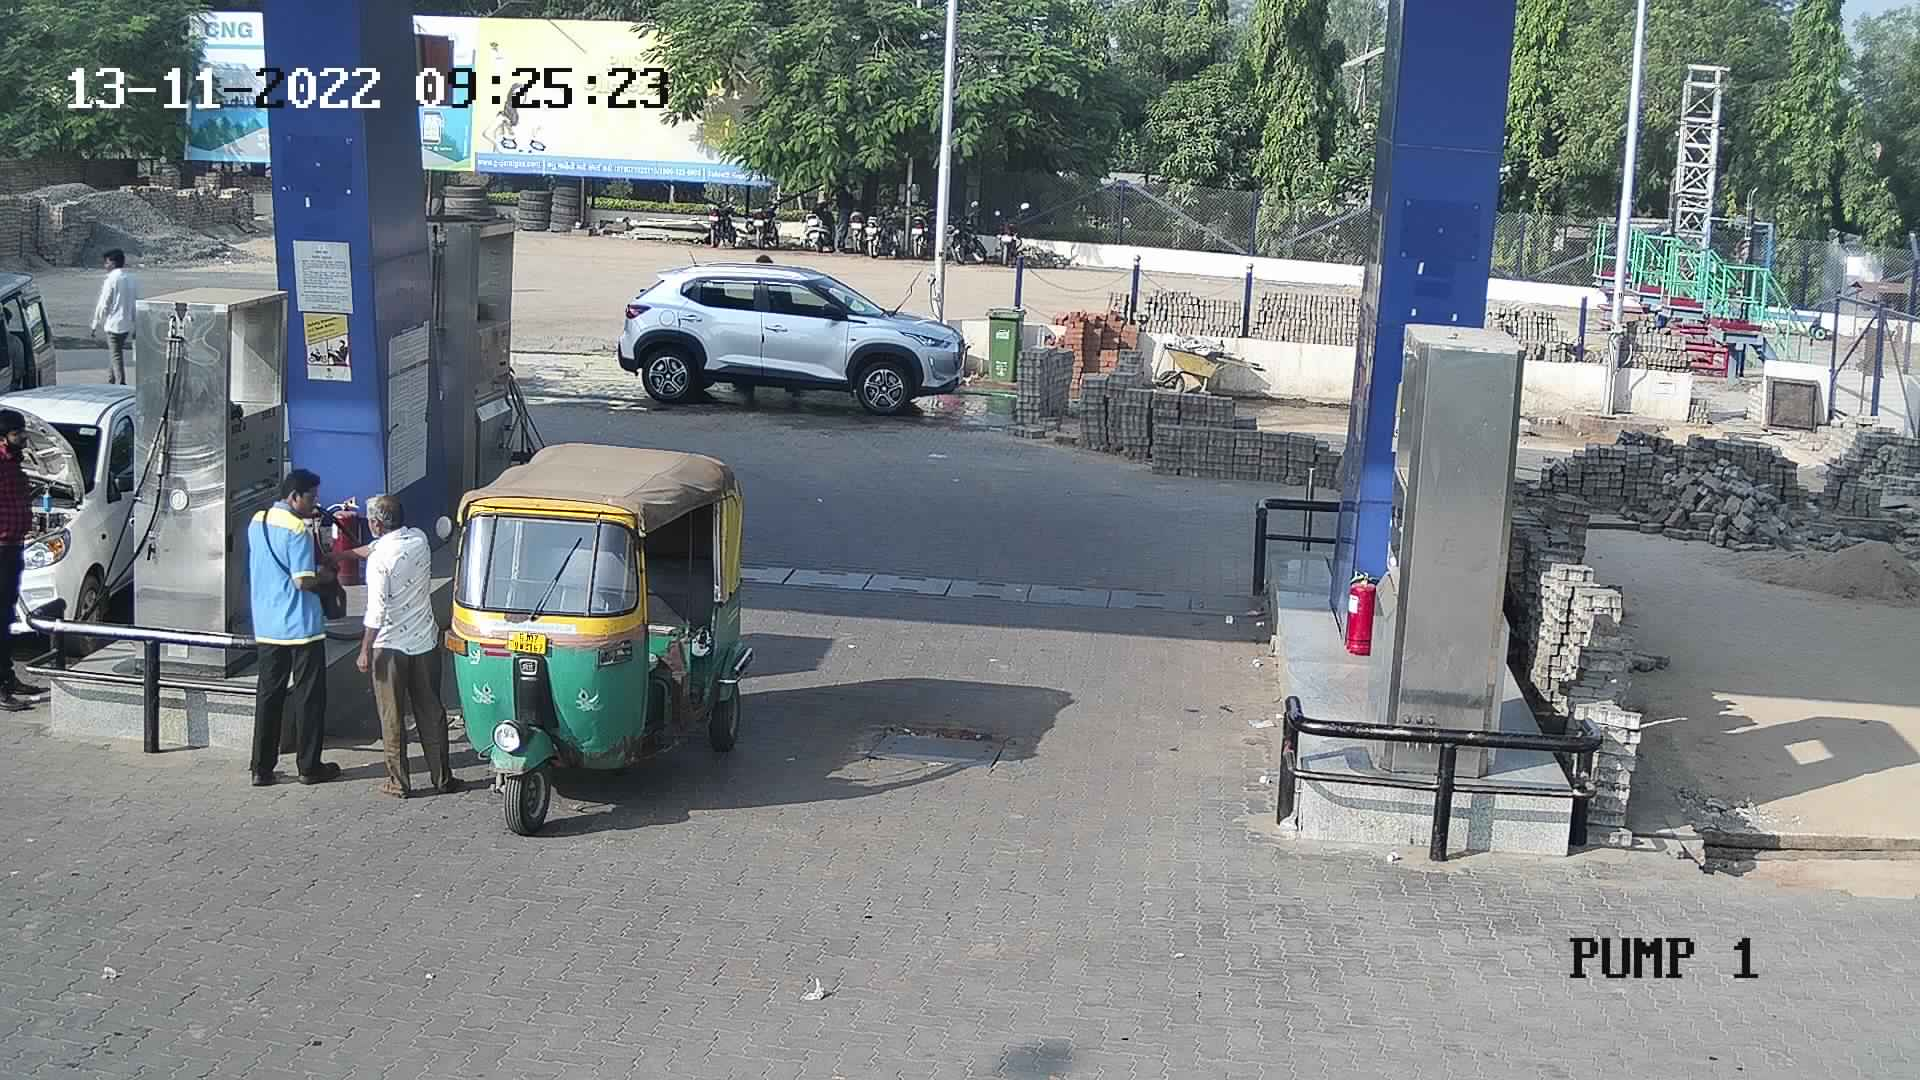Auto: (439, 434, 757, 811)
Bike: (688, 186, 742, 251), (833, 200, 889, 260), (985, 200, 1034, 264), (943, 200, 989, 264), (742, 186, 793, 241), (795, 191, 837, 251), (905, 193, 931, 260)
Car: (616, 244, 971, 415), (0, 367, 177, 665), (0, 253, 63, 440)
Others: (232, 462, 345, 787)
